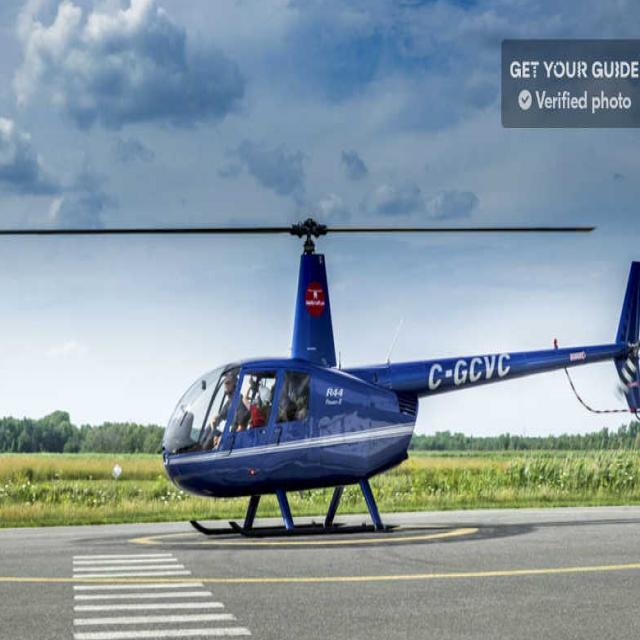helicopter: (1, 200, 640, 549)
